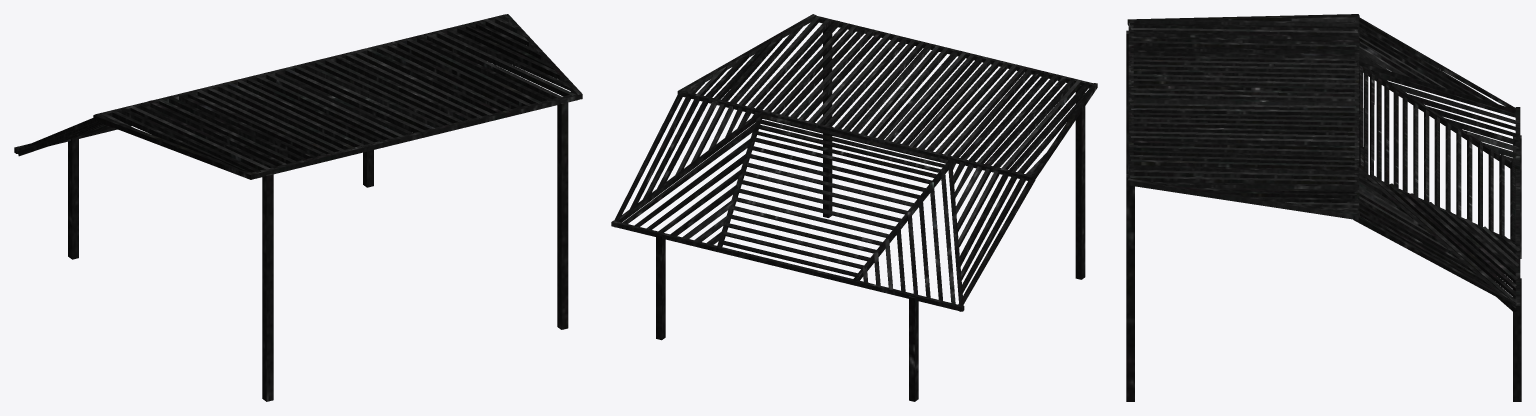
Rendered from mangal.fbx.
3 renders of one model, left to right at view 1: azimuth 30°, elevation 25°; view 2: azimuth 150°, elevation 25°; view 3: azimuth 270°, elevation 25°, orthographic. The views are drawn at different scales.
Visible parts, largest first — view 1: Cube.004; view 2: Cube.004; view 3: Cube.004.
Part boxes in pixels (x1,y1,x2,y2): Cube.004: (14, 14, 582, 401); Cube.004: (611, 14, 1097, 401); Cube.004: (1126, 14, 1521, 401).
Bounding box in the file's own units: 1.44 × 1.2 × 0.7647.
